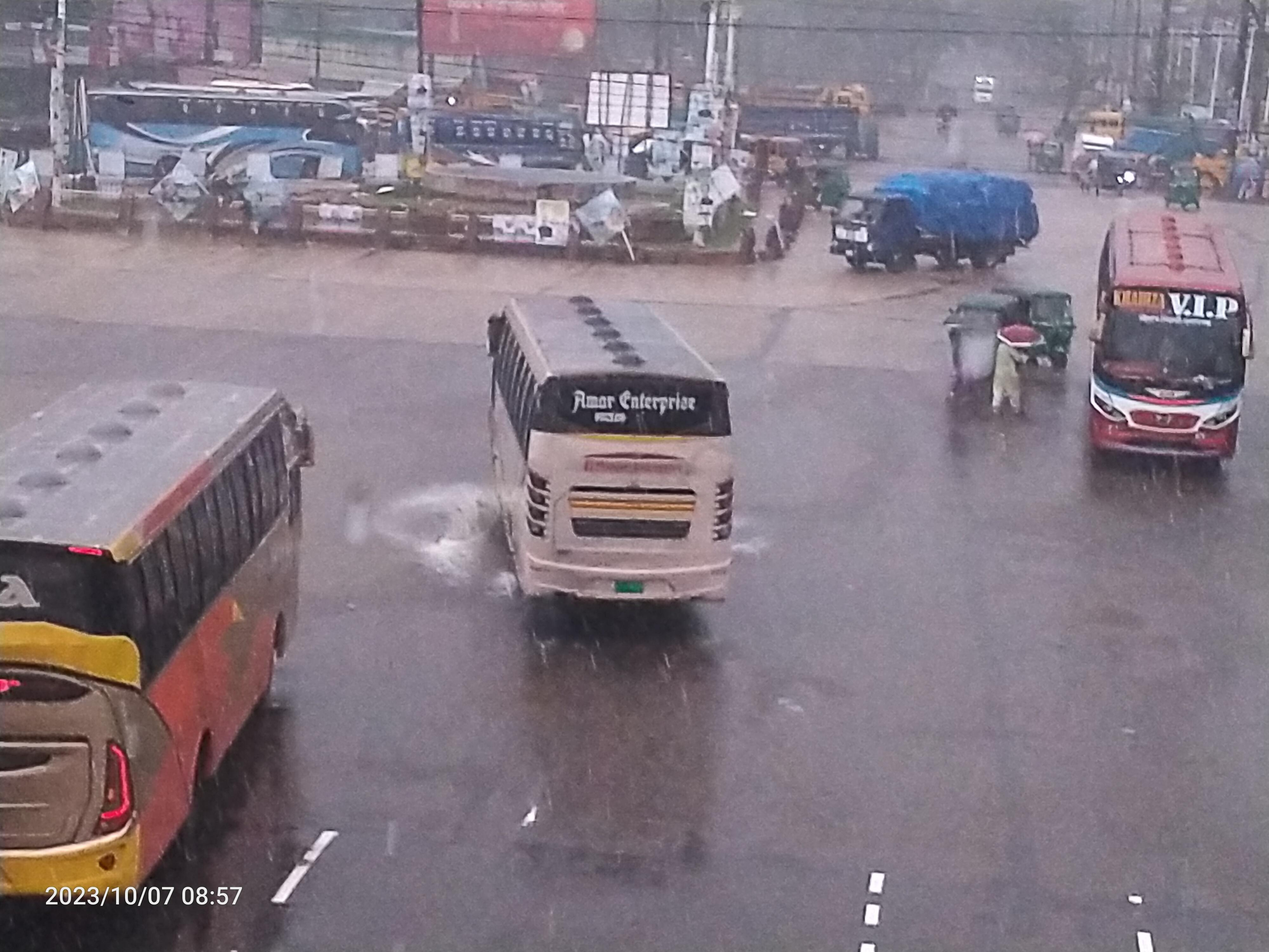Bus: (0, 340, 346, 941), (449, 267, 763, 675), (1067, 196, 1265, 529), (35, 68, 393, 217), (384, 104, 604, 208)
Truck: (825, 160, 1063, 287), (668, 72, 884, 166)
